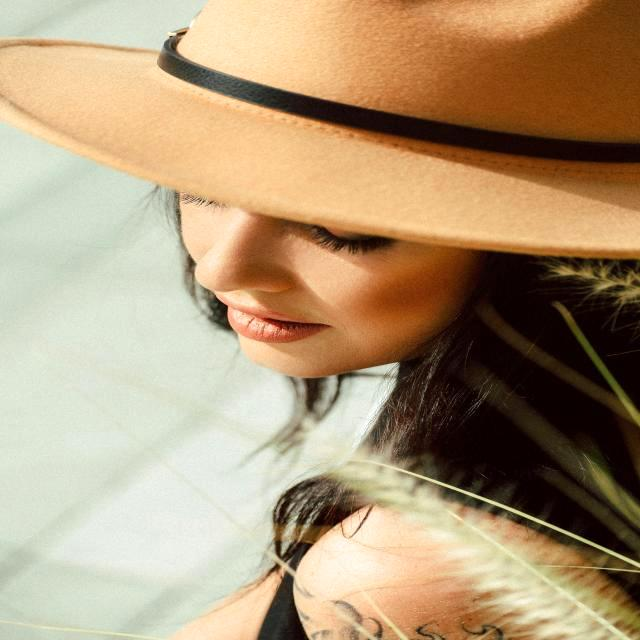no_hard_hat: (2, 0, 640, 259)
person: (2, 38, 640, 640)
